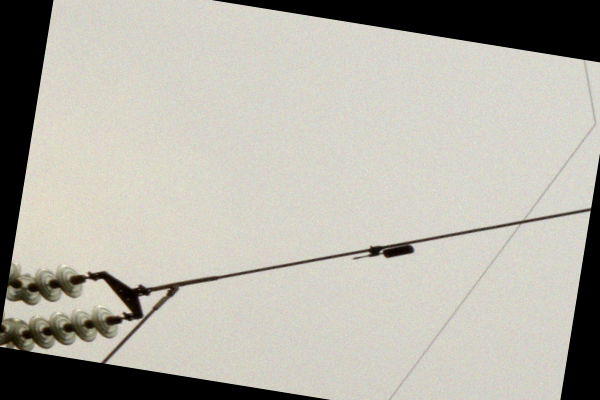damper_defect: (349, 242, 416, 263)
